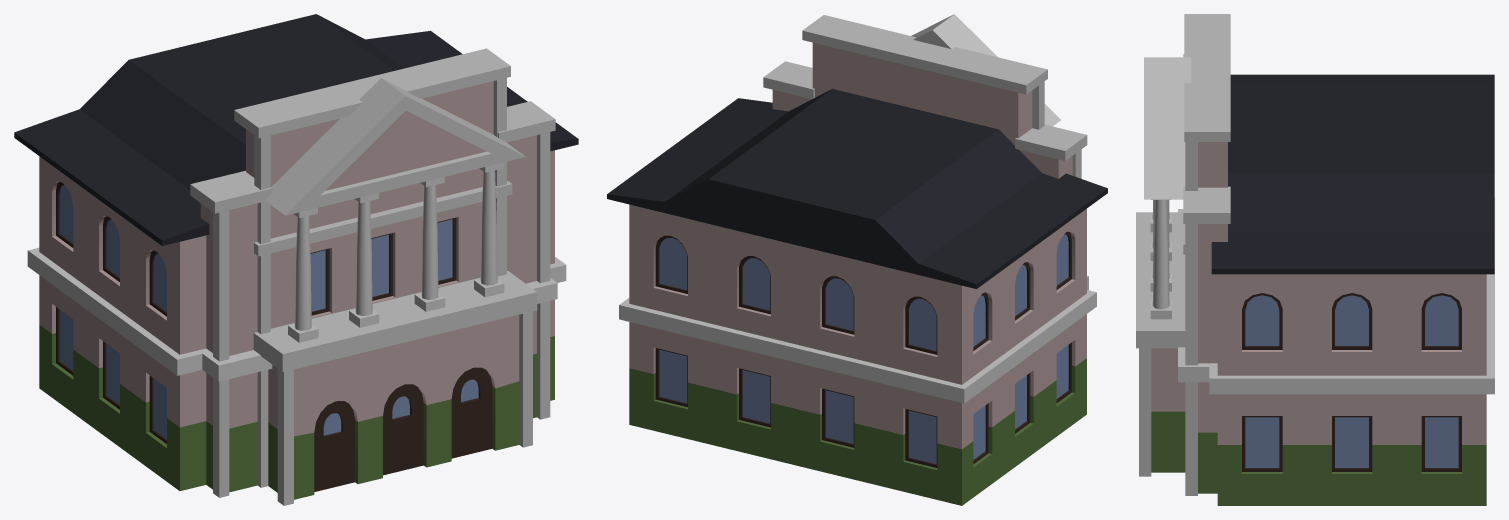
File: GovernmentBuilding_03.fbx
The picture shows the model from 3 angles, left to right: view 1: azimuth 30°, elevation 25°; view 2: azimuth 150°, elevation 25°; view 3: azimuth 270°, elevation 25°; orthographic projection. The views are drawn at different scales.
Parts seen in each view (by area): view 1: GovernmentBuilding_03; view 2: GovernmentBuilding_03; view 3: GovernmentBuilding_03.
Part boxes in pixels (x1,y1,x2,y2): GovernmentBuilding_03: (14, 14, 578, 505); GovernmentBuilding_03: (607, 14, 1107, 505); GovernmentBuilding_03: (1136, 14, 1494, 505).
Bounding box in the file's own units: 15.19 × 13.16 × 11.85.
